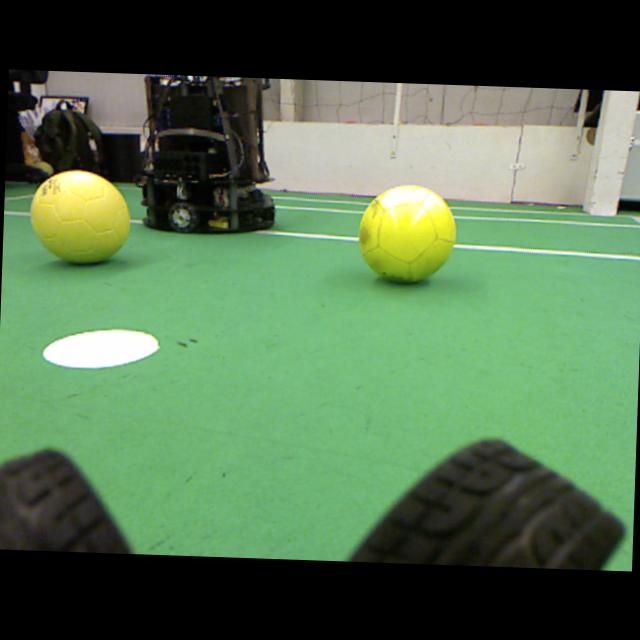ball: (359, 185, 455, 283), (30, 171, 129, 263)
goal: (591, 91, 640, 216)
robot: (139, 74, 275, 233)
